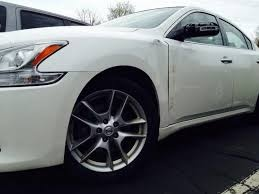Broken-glass: (180, 21, 218, 39)
Dent: (151, 37, 164, 53)
